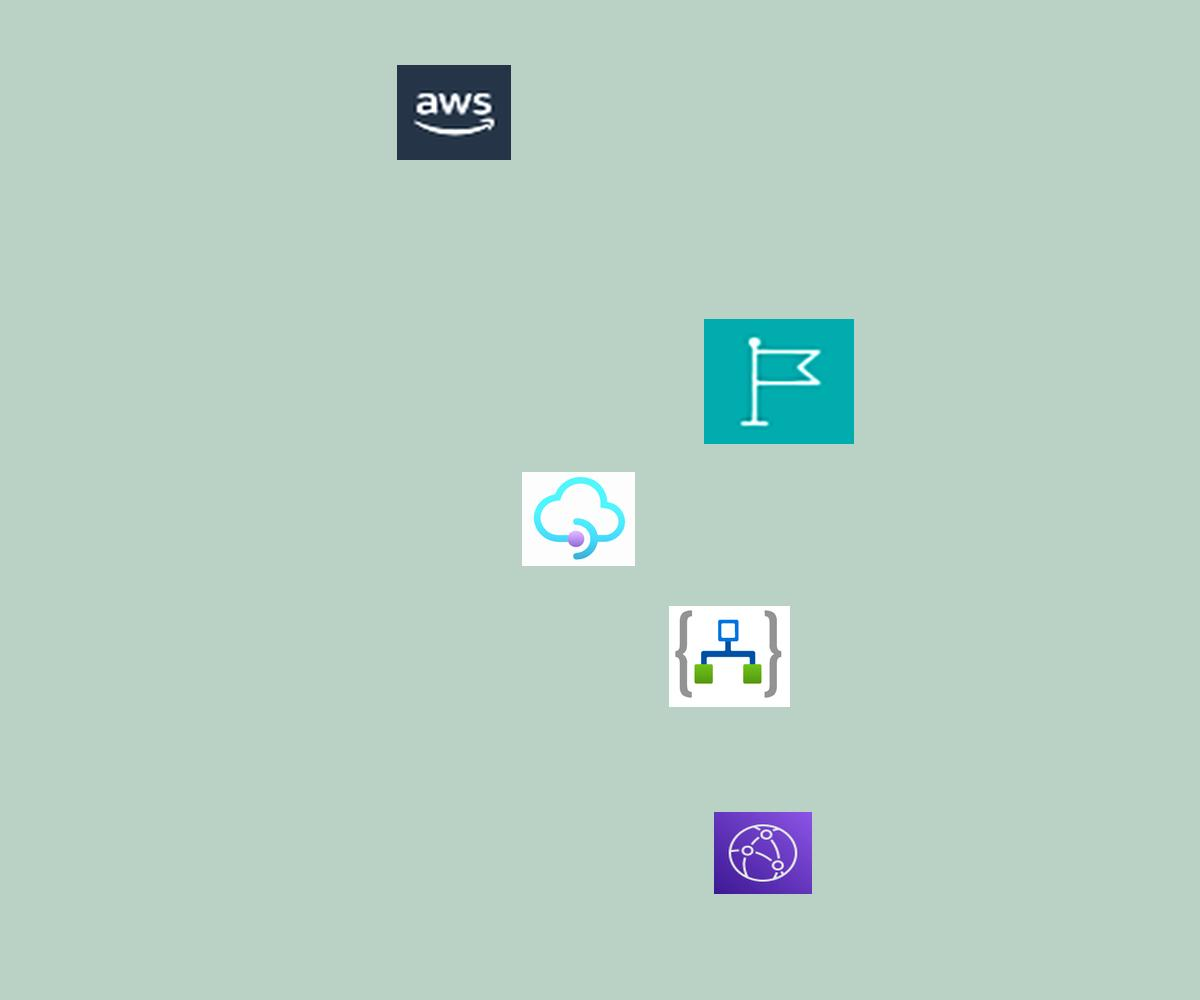AWS-Cloud-logo: (397, 65, 511, 160)
AWS-CloudFront: (714, 812, 812, 894)
AWS-Region: (704, 319, 854, 444)
Azure_api_gateway: (522, 472, 635, 566)
Azure_integration-204-Logic-Apps: (669, 606, 790, 707)
